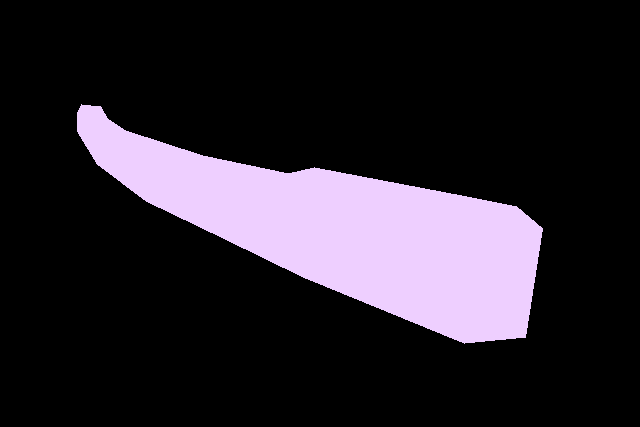Train: (77, 104, 542, 343)
